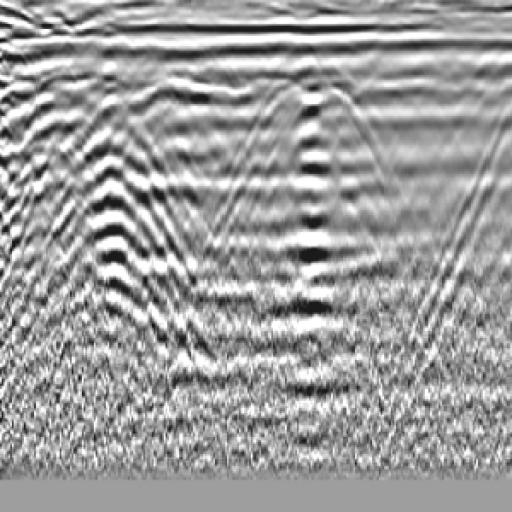metalic: (280, 68, 377, 158)
